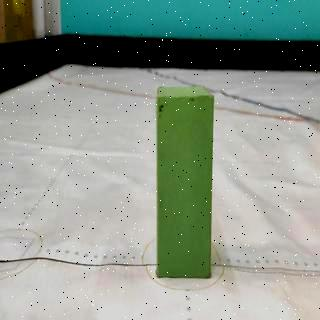greenbox: (157, 86, 213, 278)
